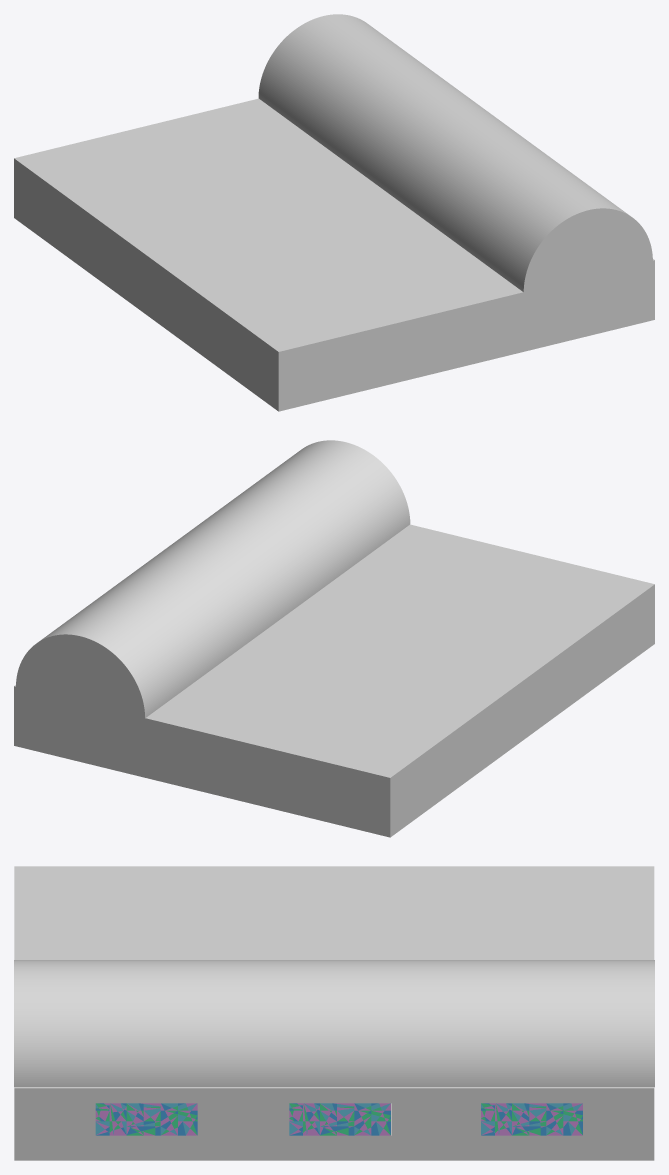
The model's file is walls_unwrapped.fbx.
The picture shows the model from 3 angles, top to bottom: view 1: azimuth 30°, elevation 25°; view 2: azimuth 150°, elevation 25°; view 3: azimuth 270°, elevation 25°; orthographic projection. The views are drawn at different scales.
Parts seen in each view (by area): view 1: Cube.031, Cylinder; view 2: Cube.031, Cylinder; view 3: Cube.031, Cylinder, purple.002, purple, purple.001, green.002, green, green.001, blue.002, blue, blue.001, lightblue.002 (+2 smaller).
Part boxes in pixels (box(x1,y1,x2,y2)): Cube.031: box(14, 98, 654, 411); Cylinder: box(258, 14, 652, 292); Cube.031: box(14, 524, 654, 837); Cylinder: box(16, 440, 410, 718); Cube.031: box(14, 866, 654, 1160); Cylinder: box(14, 960, 654, 1087); purple.002: box(95, 1103, 197, 1135); purple: box(481, 1103, 582, 1135); purple.001: box(289, 1103, 390, 1135); green.002: box(96, 1103, 197, 1135); green: box(481, 1103, 582, 1135); green.001: box(289, 1103, 390, 1135); blue.002: box(95, 1103, 196, 1135); blue: box(481, 1103, 582, 1135); blue.001: box(289, 1103, 390, 1135); lightblue.002: box(95, 1103, 197, 1135).
Bounding box in the file's own units: 11762 × 3766 × 14356.
